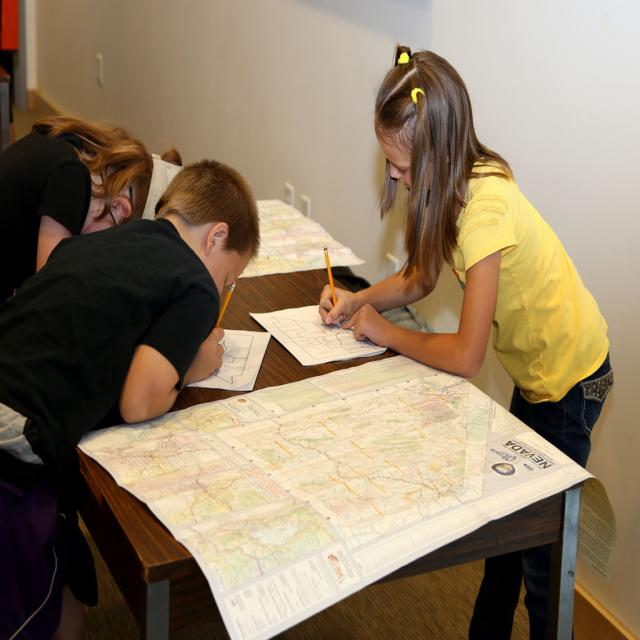desk: (75, 268, 586, 640)
person: (320, 38, 612, 638), (1, 156, 261, 634), (0, 116, 158, 304)
